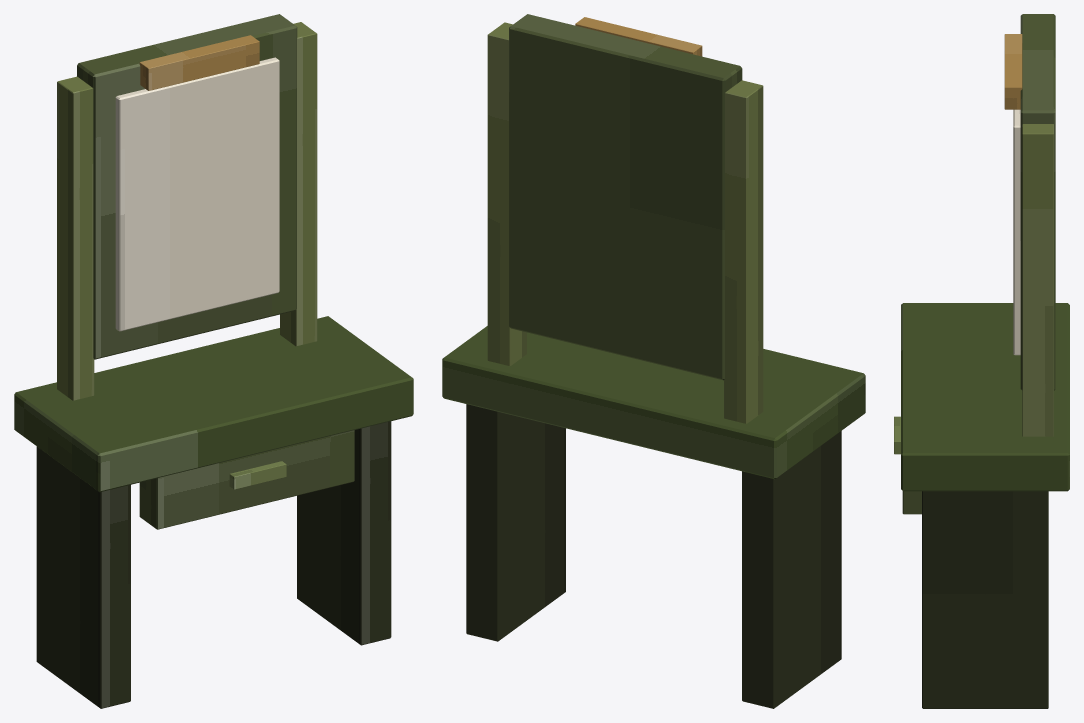
File: bedroom_vanity_olive.glb
3 renders of one model, left to right at view 1: azimuth 30°, elevation 25°; view 2: azimuth 150°, elevation 25°; view 3: azimuth 270°, elevation 25°, orthographic. The views are drawn at different scales.
Parts seen in each view (by area): view 1: VanityTop, VanityMirrorGlass, VanityLeg_L, VanityMirrorBack, VanityLeg_R, MirrorPost_L, VanityDrawer, MirrorPost_R, VanityAccent, VanityHandle; view 2: VanityMirrorBack, VanityTop, VanityLeg_L, VanityLeg_R, MirrorPost_L, MirrorPost_R, VanityAccent; view 3: VanityLeg_R, VanityTop, MirrorPost_R, VanityMirrorBack, VanityMirrorGlass, VanityAccent, VanityDrawer.
Part boxes in pixels (left/top/right/bottom): VanityTop: left=14, top=316, right=413, bottom=492; VanityMirrorGlass: left=115, top=57, right=279, bottom=331; VanityLeg_L: left=36, top=446, right=130, bottom=708; VanityMirrorBack: left=77, top=14, right=297, bottom=359; VanityLeg_R: left=297, top=421, right=391, bottom=645; MirrorPost_L: left=57, top=76, right=94, bottom=400; VanityDrawer: left=139, top=430, right=354, bottom=529; MirrorPost_R: left=280, top=22, right=317, bottom=346; VanityAccent: left=139, top=35, right=259, bottom=90; VanityHandle: left=229, top=461, right=286, bottom=489; VanityMirrorBack: left=509, top=14, right=742, bottom=380; VanityTop: left=442, top=326, right=865, bottom=479; VanityLeg_L: left=742, top=431, right=841, bottom=708; VanityLeg_R: left=466, top=404, right=565, bottom=641; MirrorPost_L: left=724, top=80, right=763, bottom=423; MirrorPost_R: left=487, top=22, right=526, bottom=365; VanityAccent: left=575, top=17, right=702, bottom=56; VanityLeg_R: left=922, top=491, right=1048, bottom=708; VanityTop: left=901, top=303, right=1069, bottom=491; MirrorPost_R: left=1022, top=124, right=1053, bottom=436; VanityMirrorBack: left=1020, top=14, right=1055, bottom=390; VanityMirrorGlass: left=1013, top=109, right=1020, bottom=355; VanityAccent: left=1004, top=34, right=1022, bottom=109; VanityDrawer: left=902, top=491, right=921, bottom=514.
Size of the model in its own units: 1.02 by 1.81 by 0.4995.
1 material, 1 textured.
